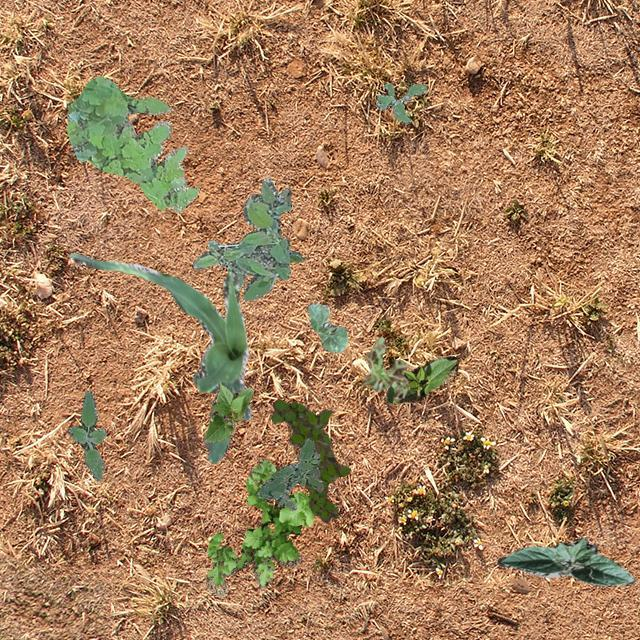crop: (68, 253, 250, 462), (496, 536, 634, 586), (384, 356, 456, 404), (204, 382, 252, 442), (306, 302, 346, 352)
weed: (66, 76, 198, 212), (205, 458, 312, 596), (192, 176, 304, 300), (270, 398, 350, 522), (256, 438, 322, 510), (68, 390, 106, 480), (362, 336, 408, 400), (376, 81, 426, 122)
